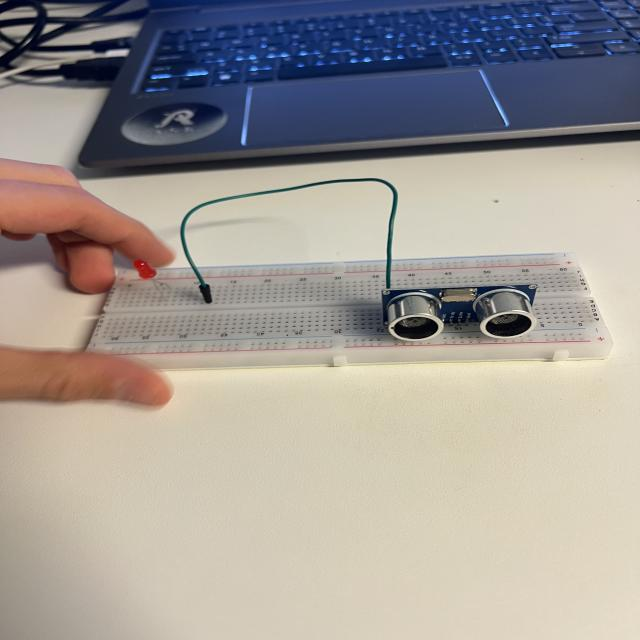BreadBoard: (115, 272, 616, 363)
REDLed: (128, 255, 165, 286)
UltrasoneSensor: (380, 282, 554, 338)
